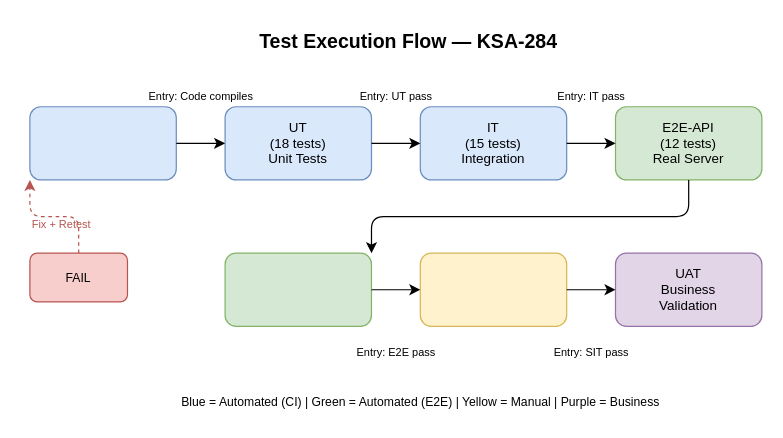
This 783x438 diagram has some shape labels left out. The centre of each missing label's shape, as x and y in pixels:
E2E-UI (8 tests) VS Code Host: the point at 297,289
PBT (8 tests) Property-Based: the point at 102,143
SIT (6 tests) Manual: the point at 493,289
